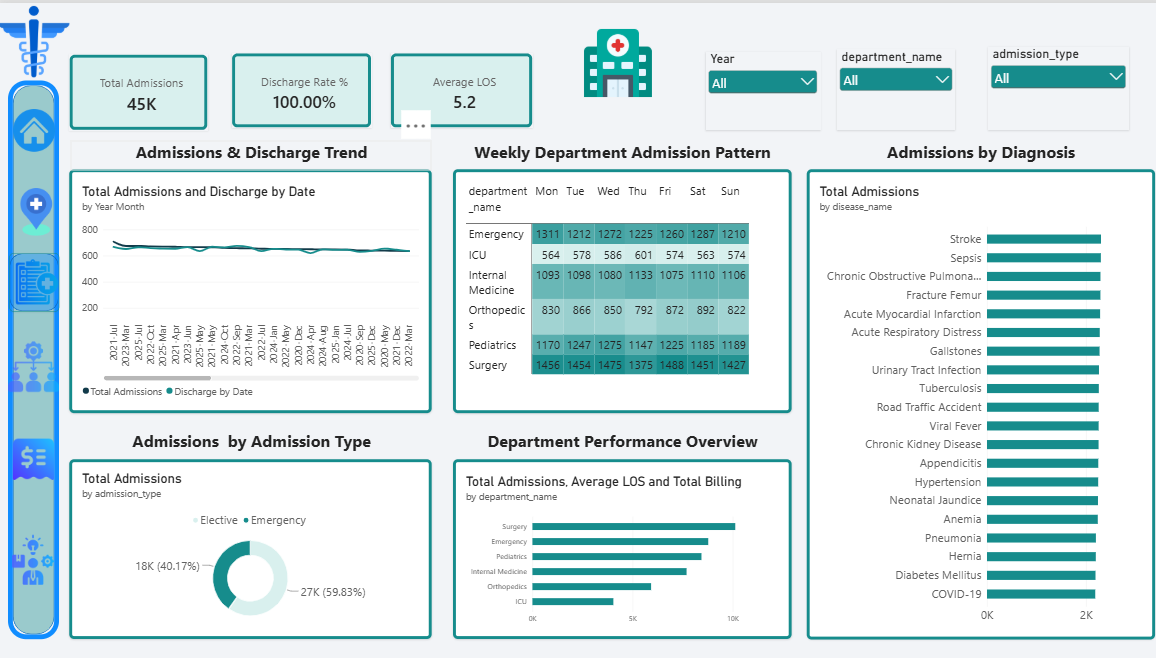

The dashboard page shown, as its layout file describes it:
{"tool":"powerbi","page":{"name":"Patient Flow & Service Demand'","canvas":[1920,1080],"ordinal":2},"visuals":[{"type":"cardVisual","fields":{"Data":["Measures (2).Total Admissions"]},"box":[117.3,84.4,228.5,125.6],"z":0},{"type":"cardVisual","fields":{"Data":["Measures (2).Discharge Rate %"]},"box":[384.9,82.3,230.5,123.5],"z":1000},{"type":"cardVisual","fields":{"Data":["Measures (2).Average LOS"]},"box":[646.3,82.3,234.6,123.5],"z":2000},{"type":"lineChart","fields":{"Category":["Calendar.Year Month"],"Y":["Measures (2).Total Admissions","Measures (2).Discharge by Date"]},"box":[117.3,273.8,596.9,401.4],"z":3000},{"type":"barChart","fields":{"Category":["disease_clean.disease_name"],"Y":["Measures (2).Total Admissions"]},"box":[1332.4,273.6,573.9,774.1],"z":4000},{"type":"donutChart","fields":{"Category":["admission_clean.admission_type"],"Y":["Measures (2).Total Admissions"]},"box":[117.3,751.3,596.9,296.4],"z":5000},{"type":"clusteredBarChart","fields":{"Category":["department_clean.department_name"],"Y":["Measures (2).Total Admissions"]},"box":[749.2,751.3,557.8,296.4],"z":6000},{"type":"slicer","fields":{"Values":["Calendar.Year"]},"box":[1165,80.3,189.4,129.7],"z":7000},{"type":"slicer","fields":{"Values":["department_clean.department_name"]},"box":[1381.1,76.2,195.5,133.8],"z":8000},{"type":"slicer","fields":{"Values":["admission_clean.admission_type"]},"box":[1630.2,72,232.6,137.9],"z":9000},{"type":"pivotTable","fields":{"Columns":["Calendar.Day Name"],"Rows":["department_clean.department_name"],"Values":["Measures (2).Total Admissions"]},"box":[749.2,273.8,557.8,401.4],"z":10000},{"type":"shape","box":[16.5,127.6,84.4,920.1],"z":11000},{"type":"image","box":[0,0,117.3,127.6],"z":12000},{"type":"image","box":[959.2,0,123.5,197.6],"z":13000},{"type":"image","box":[24.7,162.6,70,94.7],"z":14000},{"type":"image","box":[16.5,642.2,84.4,218.2],"z":15000},{"type":"image","box":[16.5,496.1,84.4,205.8],"z":16000},{"type":"image","box":[16.5,846,82.3,142],"z":17000},{"type":"image","box":[10.3,422,107,74.1],"z":18000},{"type":"image","box":[6.2,304.6,114,78.2],"z":19000},{"type":"textbox","box":[118.4,225.7,596.7,49.2],"z":20000},{"type":"textbox","box":[748.6,225.7,558.7,49.2],"z":21000},{"type":"textbox","box":[1331.9,225.7,574.3,49.2],"z":22000},{"type":"textbox","box":[118.4,701.7,596.7,49.2],"z":23000},{"type":"textbox","box":[748.6,701.7,558.7,49.2],"z":24000},{"type":"shape","box":[18.5,411.7,82.3,96.7],"z":25000}]}

Visuals, with their boxes on the page's 1920x1080 design canvas (x1, y1, x2, y2). These are canvas units, not pixel positions in the 1156x658 screenshot, which may show the page scaled, cropped or inside an application window:
cardVisual - Measures (2).Total Admissions: (x1=117, y1=84, x2=346, y2=210)
cardVisual - Measures (2).Discharge Rate %: (x1=385, y1=82, x2=615, y2=206)
cardVisual - Measures (2).Average LOS: (x1=646, y1=82, x2=881, y2=206)
lineChart - Calendar.Year Month x Measures (2).Total Admissions: (x1=117, y1=274, x2=714, y2=675)
barChart - disease_clean.disease_name x Measures (2).Total Admissions: (x1=1332, y1=274, x2=1906, y2=1048)
donutChart - admission_clean.admission_type x Measures (2).Total Admissions: (x1=117, y1=751, x2=714, y2=1048)
clusteredBarChart - department_clean.department_name x Measures (2).Total Admissions: (x1=749, y1=751, x2=1307, y2=1048)
slicer - Calendar.Year: (x1=1165, y1=80, x2=1354, y2=210)
slicer - department_clean.department_name: (x1=1381, y1=76, x2=1577, y2=210)
slicer - admission_clean.admission_type: (x1=1630, y1=72, x2=1863, y2=210)
pivotTable - Calendar.Day Name x department_clean.department_name: (x1=749, y1=274, x2=1307, y2=675)
shape: (x1=16, y1=128, x2=101, y2=1048)
image: (x1=0, y1=0, x2=117, y2=128)
image: (x1=959, y1=0, x2=1083, y2=198)
image: (x1=25, y1=163, x2=95, y2=257)
image: (x1=16, y1=642, x2=101, y2=860)
image: (x1=16, y1=496, x2=101, y2=702)
image: (x1=16, y1=846, x2=99, y2=988)
image: (x1=10, y1=422, x2=117, y2=496)
image: (x1=6, y1=305, x2=120, y2=383)
textbox: (x1=118, y1=226, x2=715, y2=275)
textbox: (x1=749, y1=226, x2=1307, y2=275)
textbox: (x1=1332, y1=226, x2=1906, y2=275)
textbox: (x1=118, y1=702, x2=715, y2=751)
textbox: (x1=749, y1=702, x2=1307, y2=751)
shape: (x1=18, y1=412, x2=101, y2=508)
